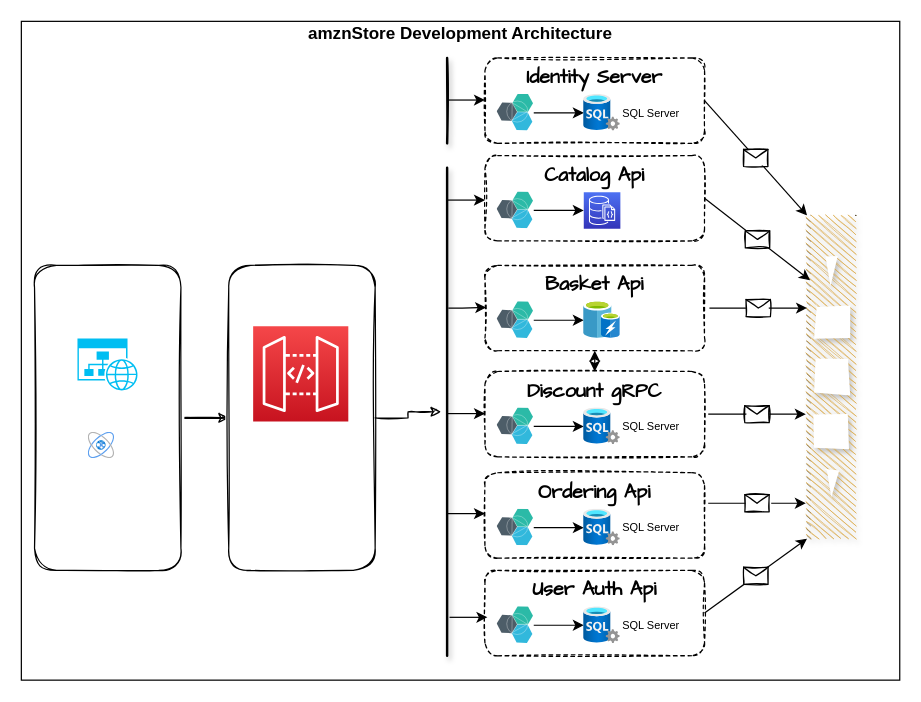
This 921x702 diagram has some shape labels left out. The centre of each missing label's shape, as x and y in pixels:
"API Gateway / Ocelot" goes at [300,373].
"MongoDB" goes at [601,210].
"RabbitMQ / Event Bus" goes at [832,378].
"Redis" goes at [601,319].
"Web App / ReactJS" goes at [107,364].
